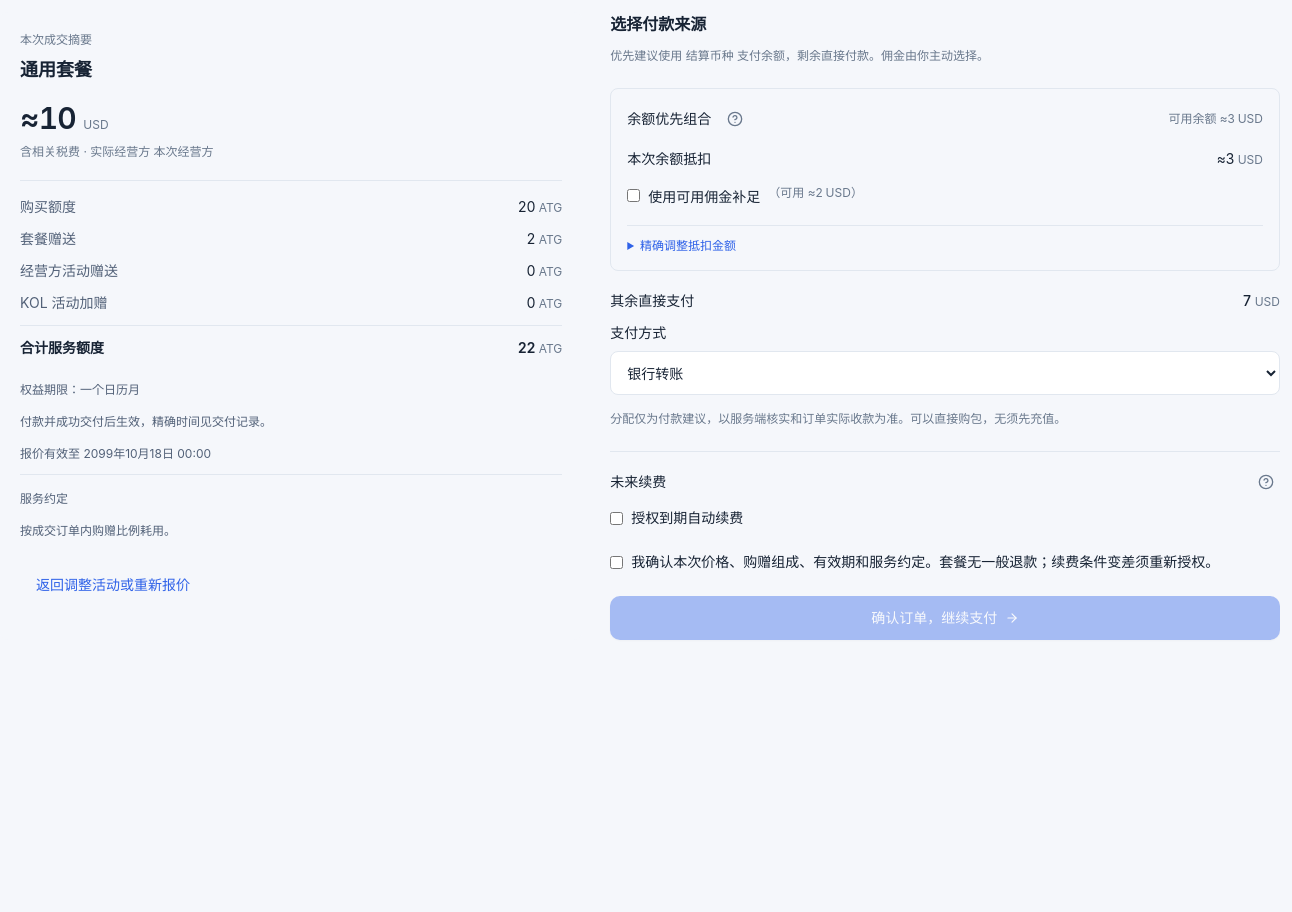
Test: keeps present commission payment and future renewal permission as separate opt-ins
Expected: the text "按成交订单内购赠比例耗用。" is shown, [20, 523, 176, 538]
Expected: the element named "本次使用 结算币种 支付余额" holds "3.000000000000000001", [627, 225, 1263, 254]
Click the checkbox labelled "使用可用佣金补足 （可用 ≈2 USD）" at (634, 196), box [627, 189, 640, 202]
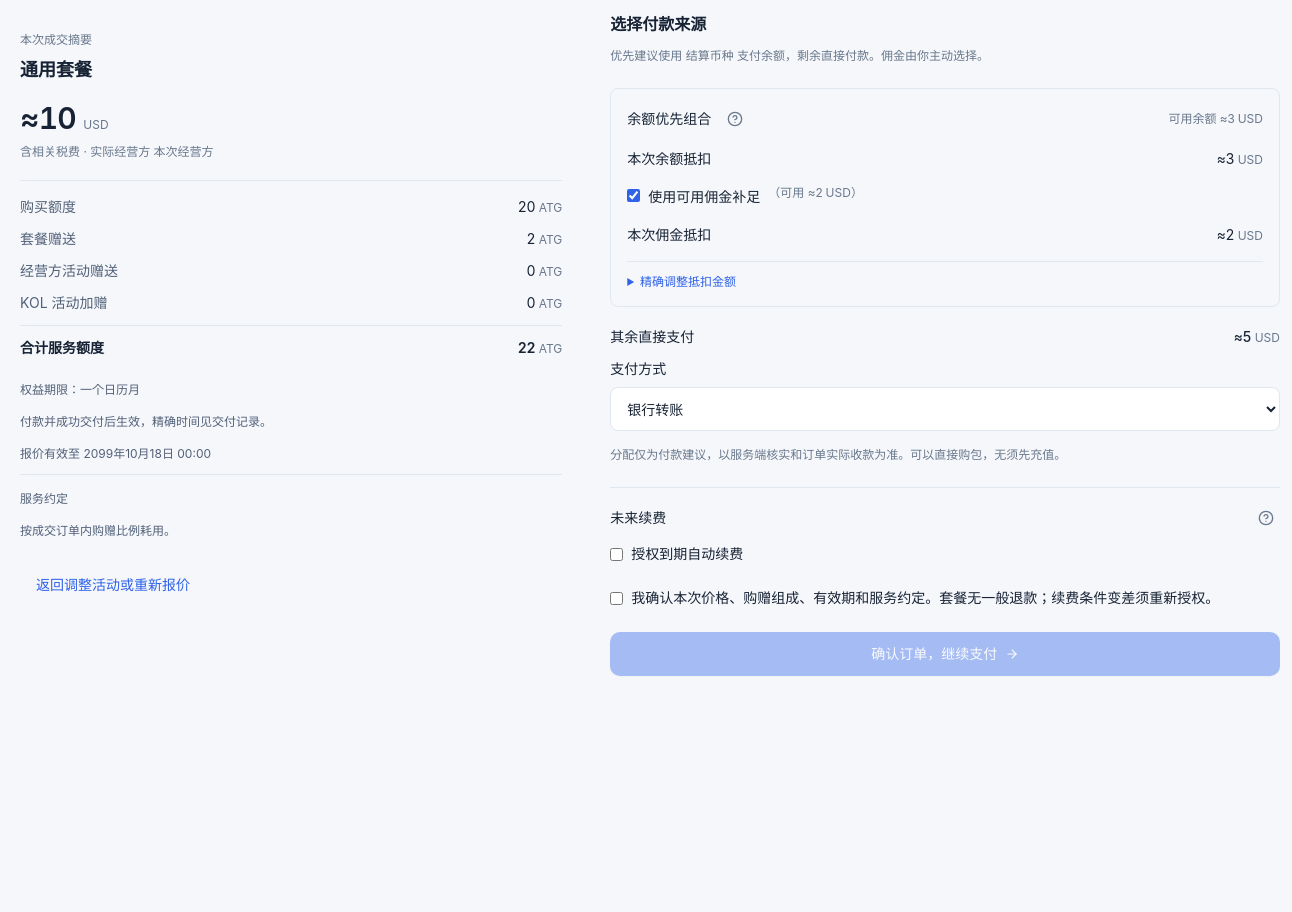
Expected: the element named "本次使用可用佣金 结算币种" holds "2.000000000000000001", [627, 261, 1263, 290]
Click the checkbox labelled "授权到期自动续费" at (617, 554), box [610, 548, 623, 561]
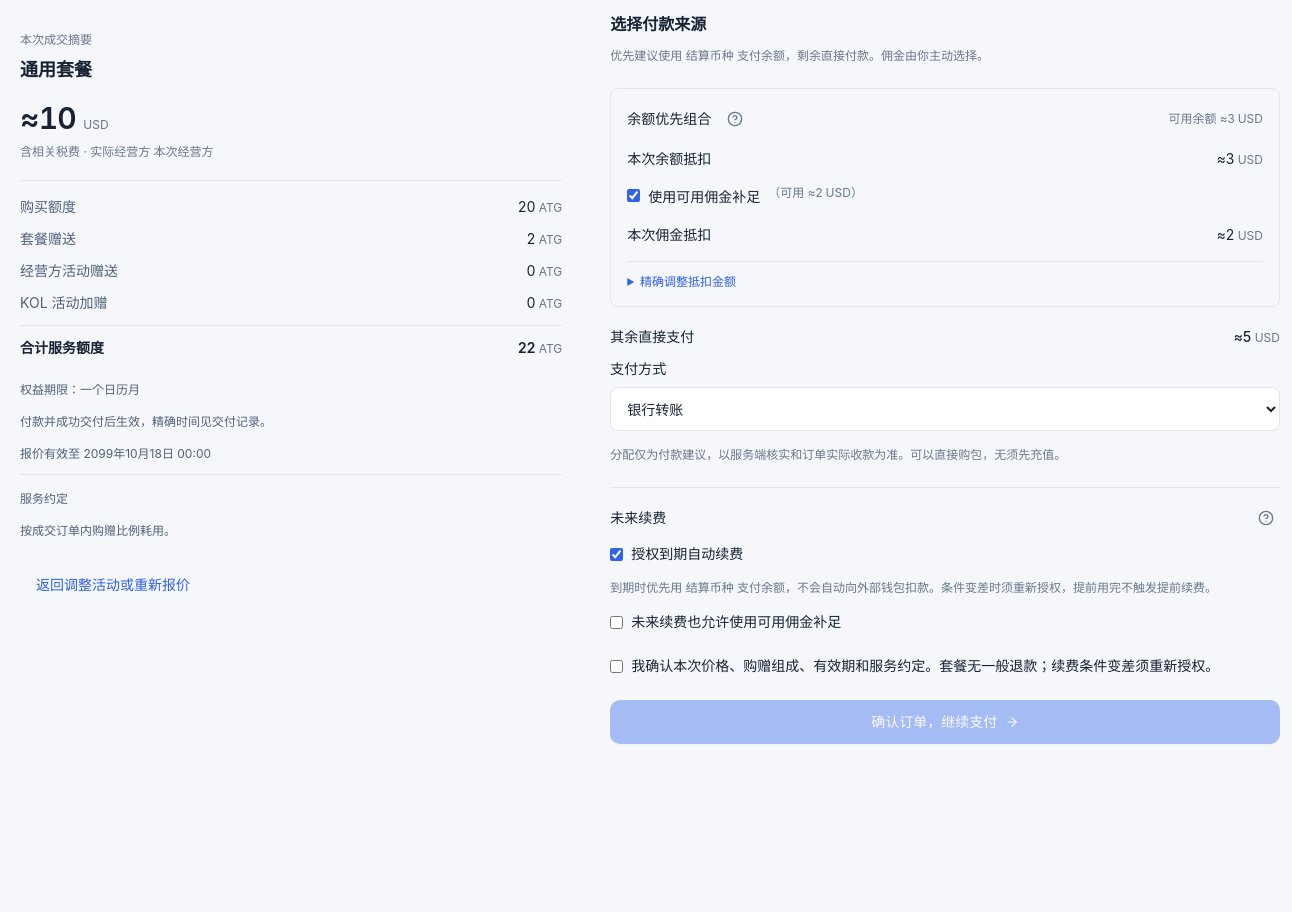
Result: the checkbox labelled "未来续费也允许使用可用佣金补足" is not checked at [610, 616, 623, 629]
Click the checkbox labelled "我确认本次价格、购赠组成、有效期和服务约定。套餐无一般退款；续费条件变差须重新授权。" at (617, 666), box [610, 660, 623, 673]
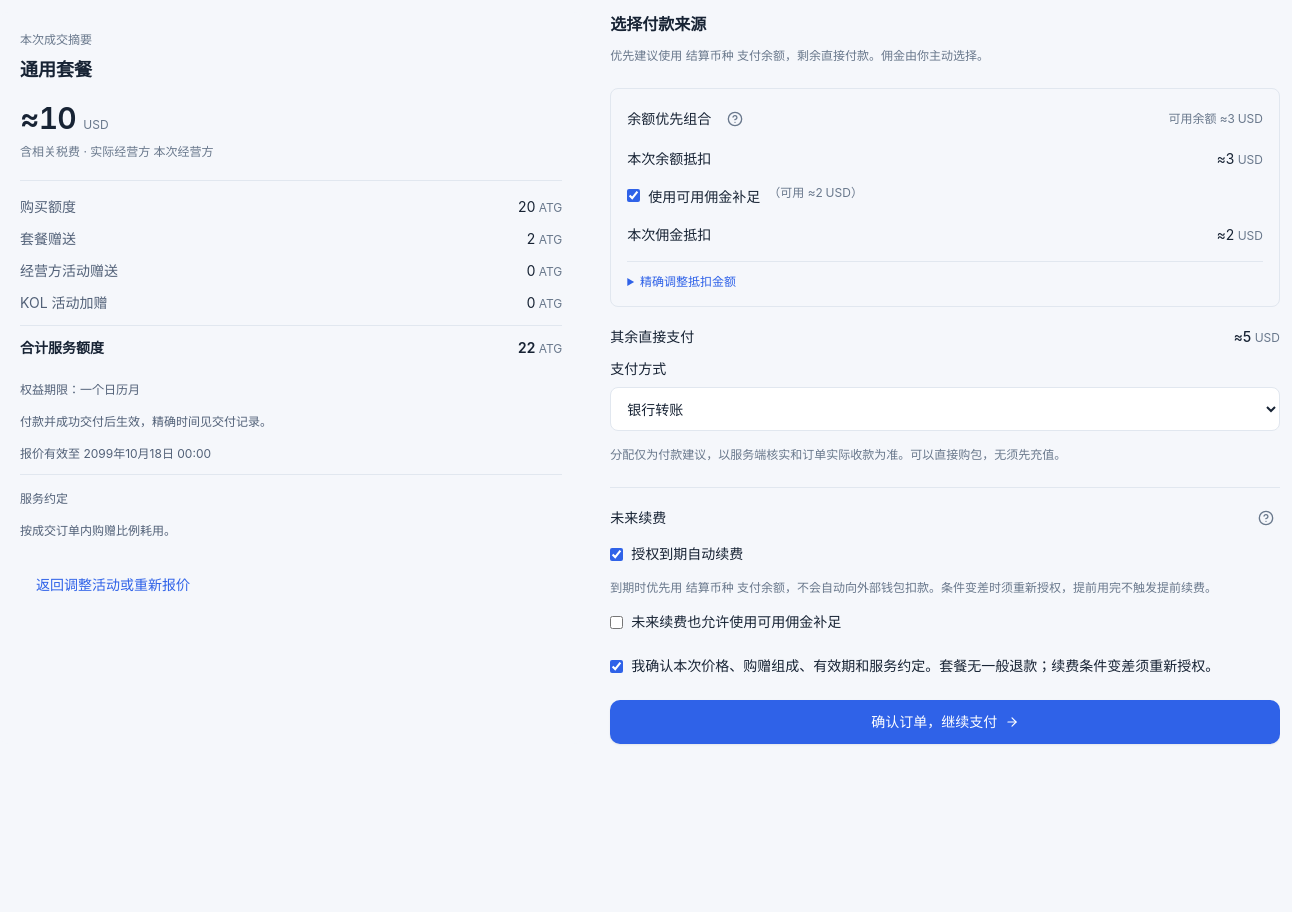
Click the button "确认订单，继续支付" at (945, 722), box [610, 700, 1280, 744]
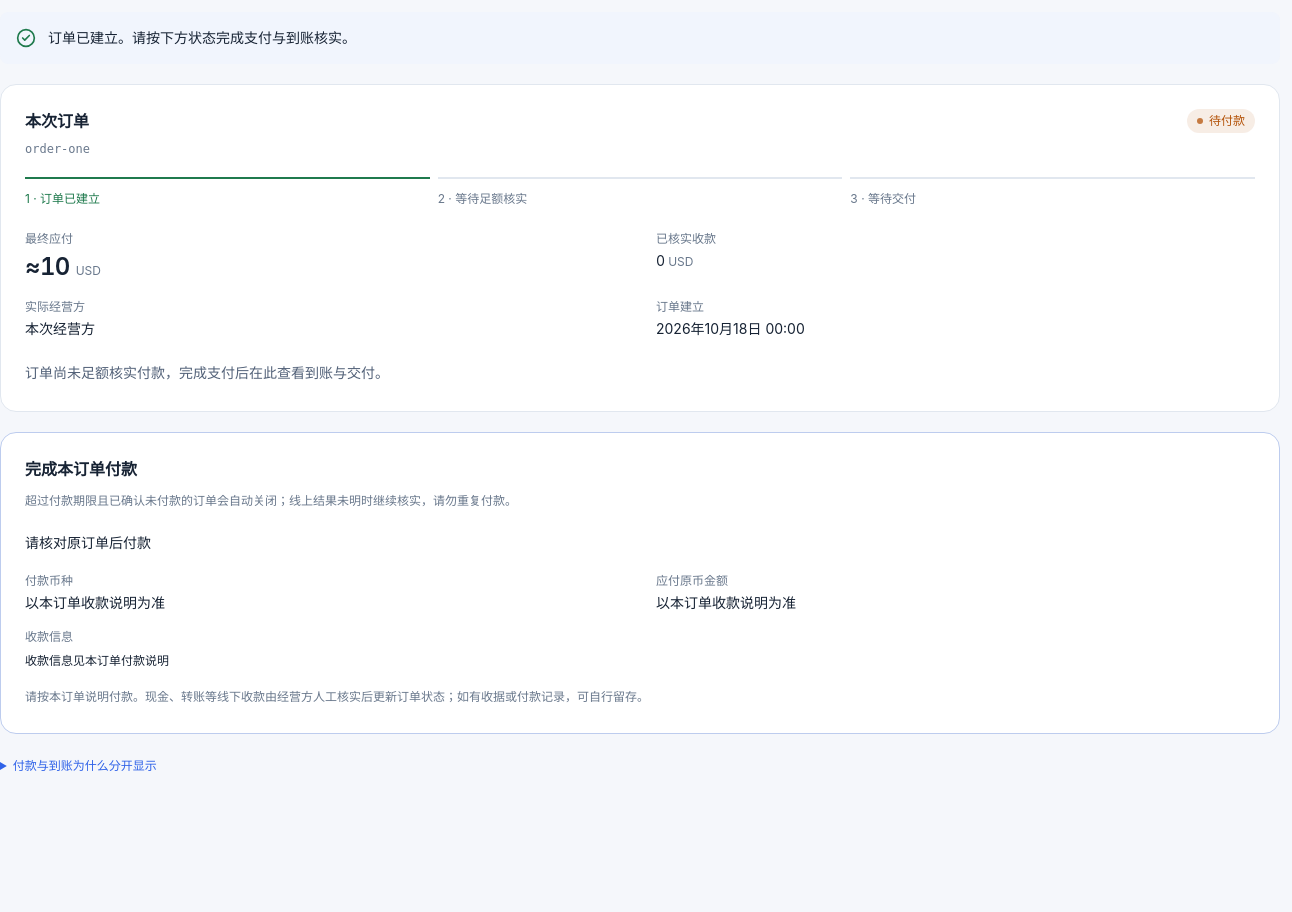
Result: the text "订单已建立。请按下方状态完成支付与到账核实。" is shown at [48, 28, 356, 48]
